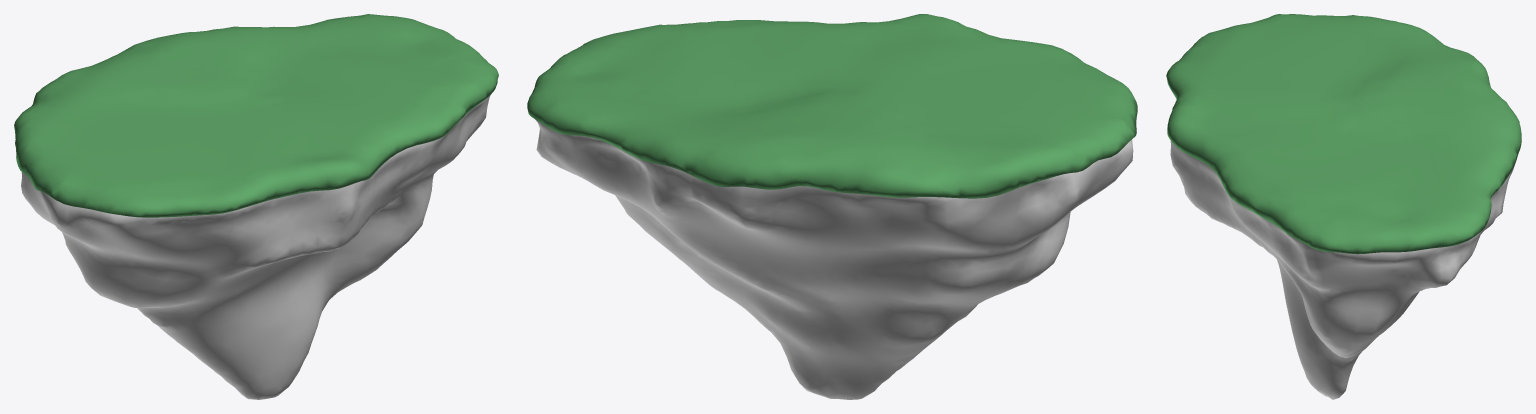
The model's file is IslandsLongNewStyle1.fbx.
3 renders of one model, left to right at view 1: azimuth 30°, elevation 25°; view 2: azimuth 150°, elevation 25°; view 3: azimuth 270°, elevation 25°, orthographic. The views are drawn at different scales.
Visible parts, largest first — view 1: Cube.008, Cube.006; view 2: Cube.008, Cube.006; view 3: Cube.008, Cube.006.
Part boxes in pixels (<box>): Cube.008: <box>14,14,498,217</box>; Cube.006: <box>21,95,490,399</box>; Cube.008: <box>527,14,1137,198</box>; Cube.006: <box>535,119,1133,399</box>; Cube.008: <box>1166,14,1521,254</box>; Cube.006: <box>1170,141,1514,399</box>.
Bounding box in the file's own units: 3361 × 2031 × 2314.
